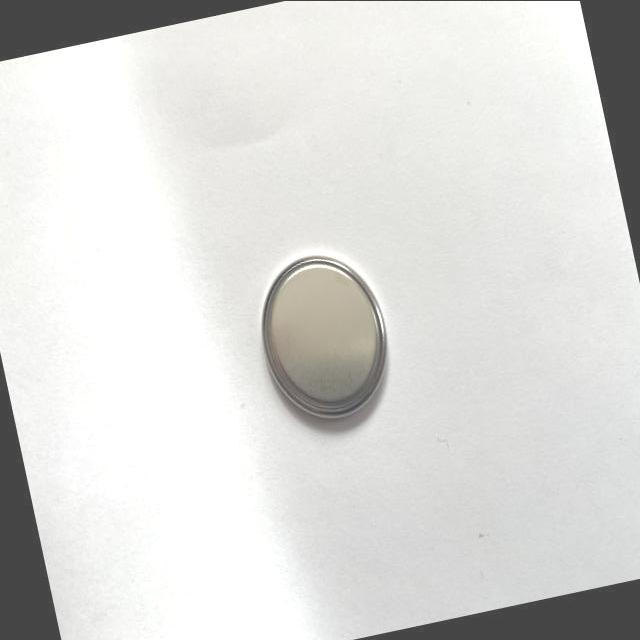COIN: (244, 241, 404, 438)
